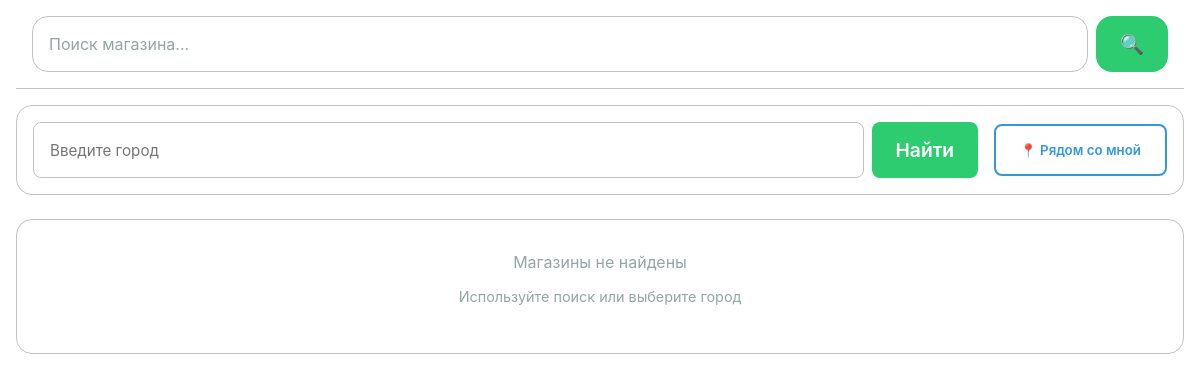
Scenario: ShopsPage › shows the distance-aware shop list when nearby mode is active
Click the button "📍 Рядом со мной" at (1081, 150), box [994, 124, 1167, 176]
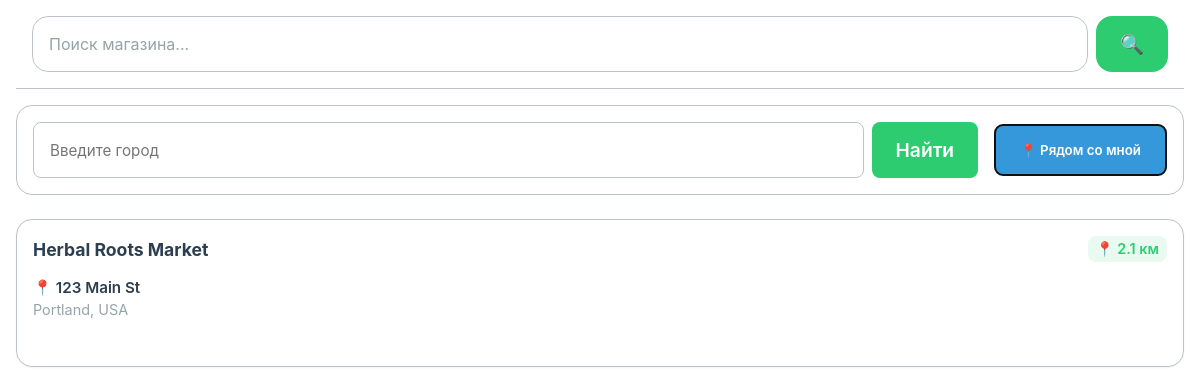
Expected: the text "📍 2.1 км" is shown, [1088, 236, 1167, 262]
